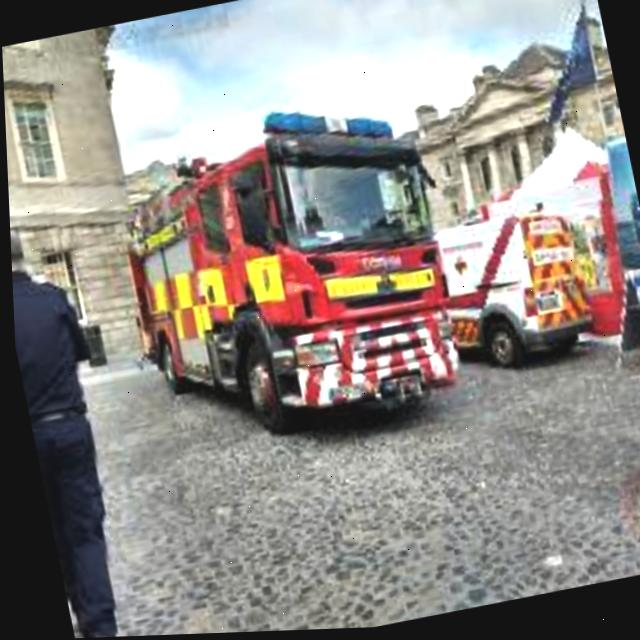emergency: (104, 91, 487, 482), (460, 189, 610, 381)
